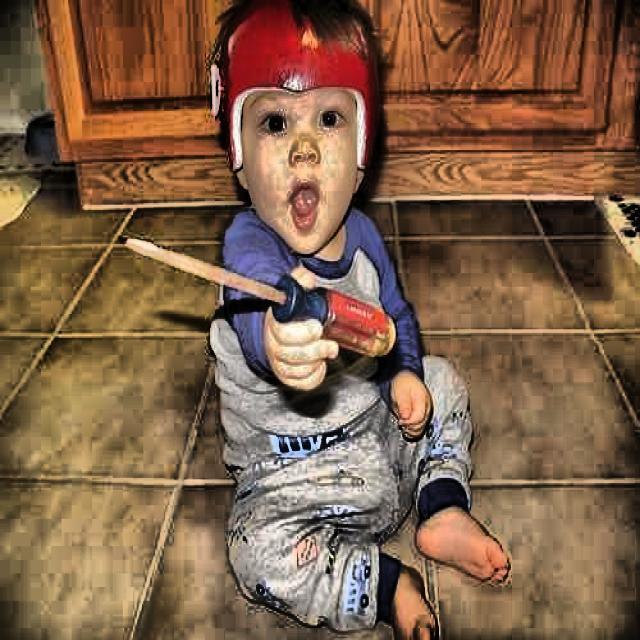screwdriver: (118, 235, 396, 358)
